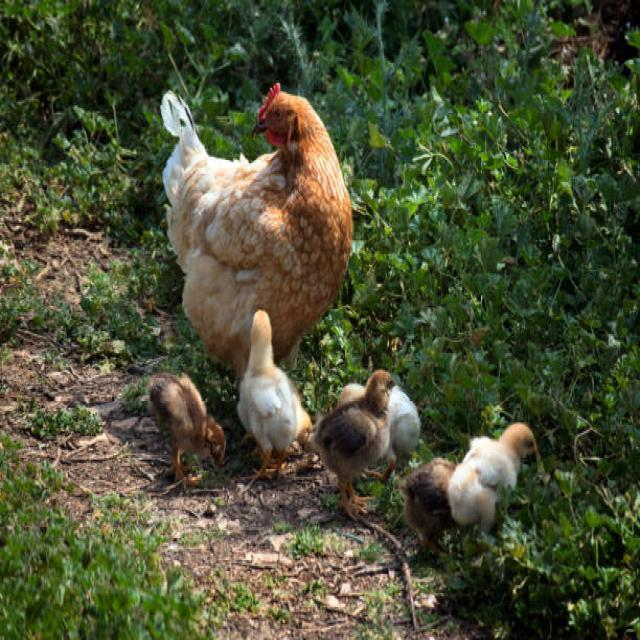Healthy: (142, 78, 363, 346), (234, 309, 319, 467)
